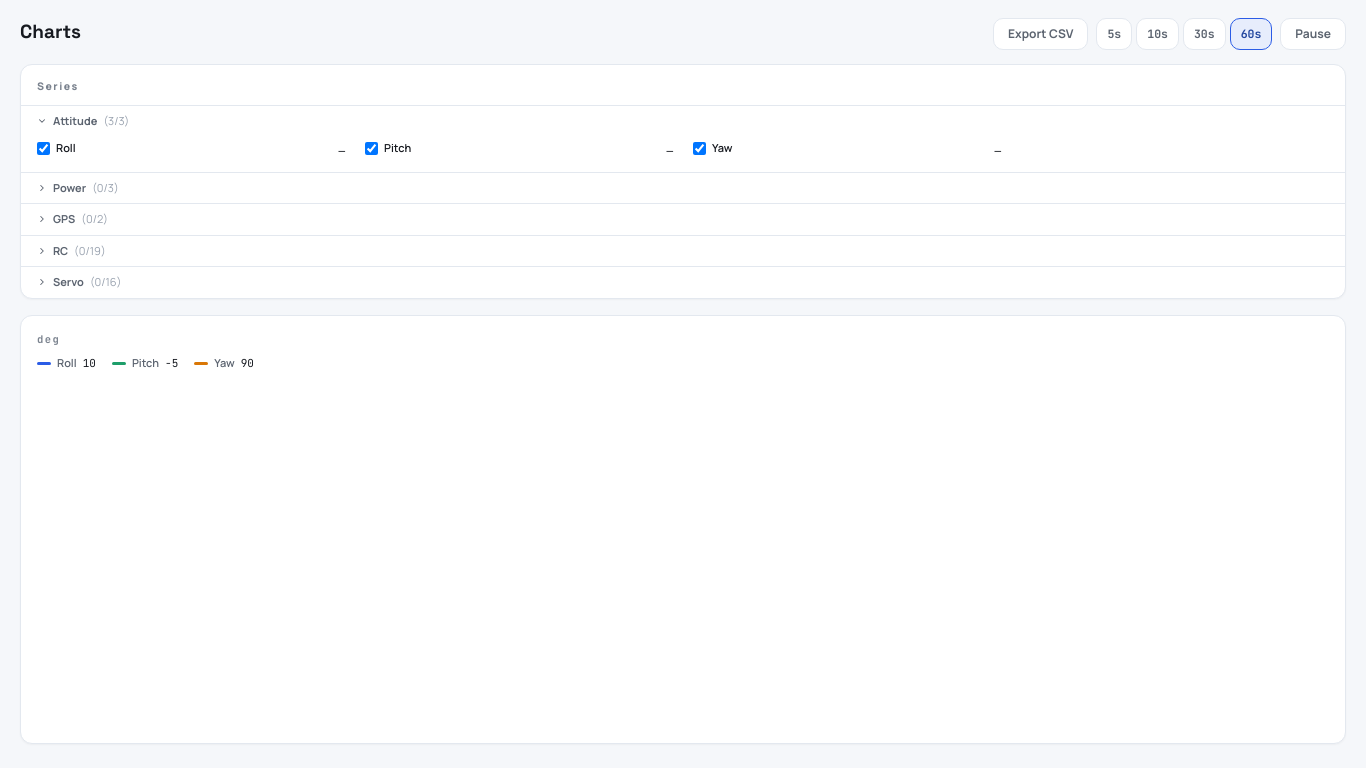
Test: ChartsPage › lists all 43 Series as checkboxes across the five Block groups once expanded; fix_type is absent
Click the button "Power (0/3)" at (70, 187), box [21,172,1345,203]
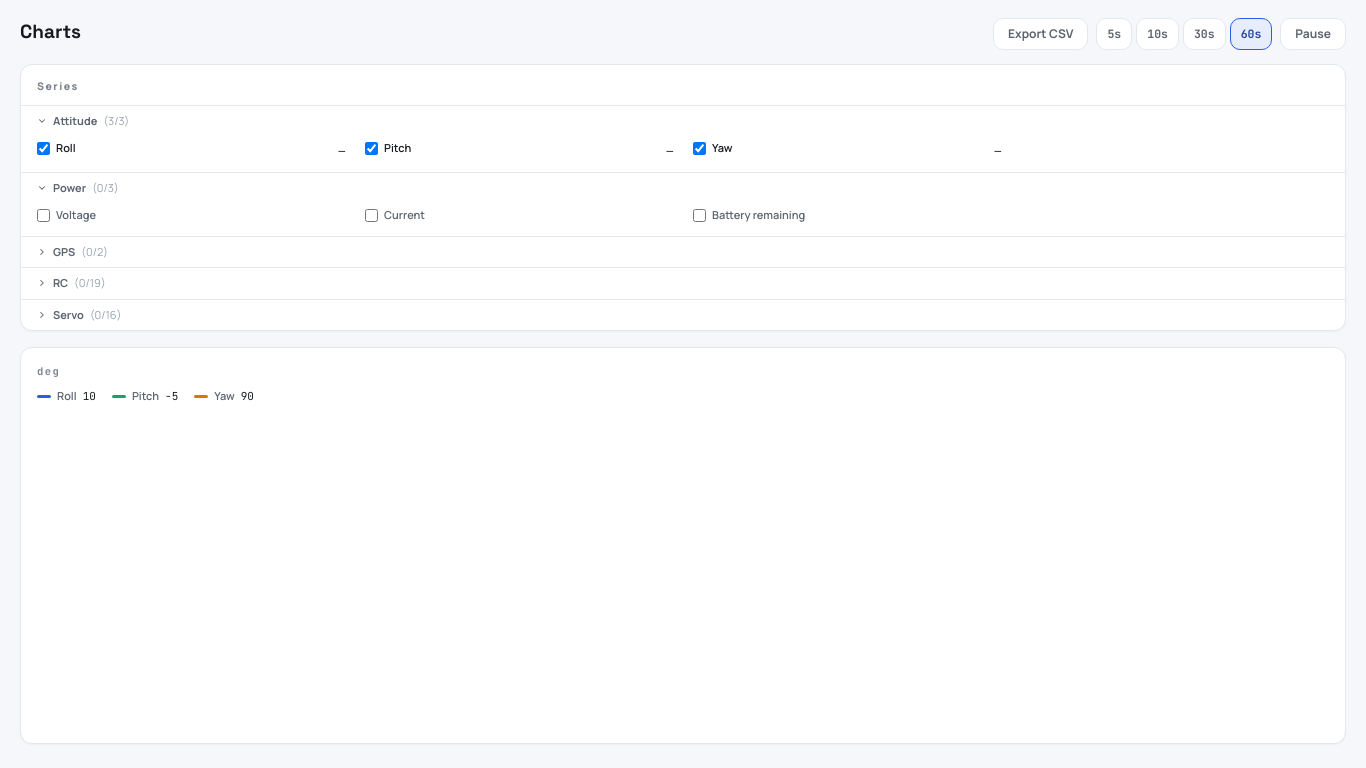
Click the button "GPS (0/2)" at (42, 252), box [21,236,1345,267]
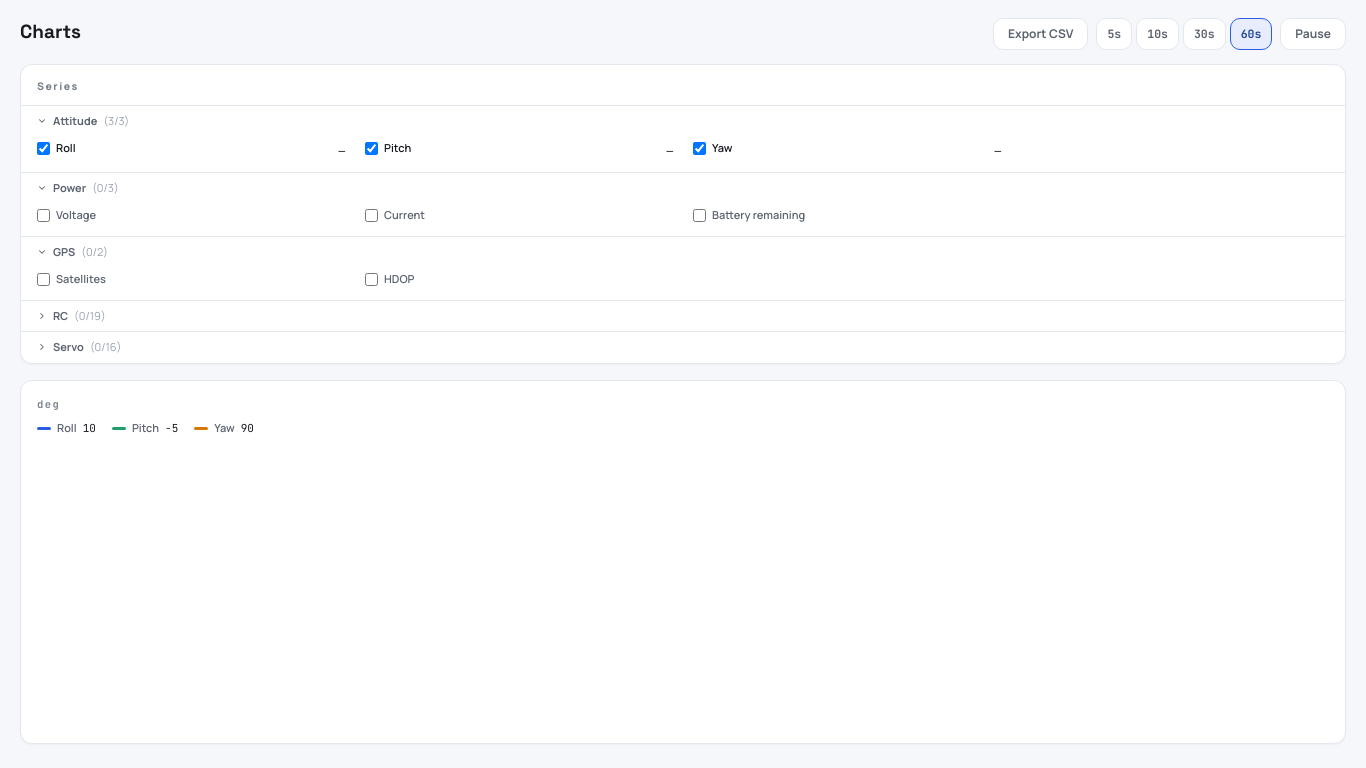
Click the button "RC (0/19)" at (42, 316), box [21,300,1345,331]
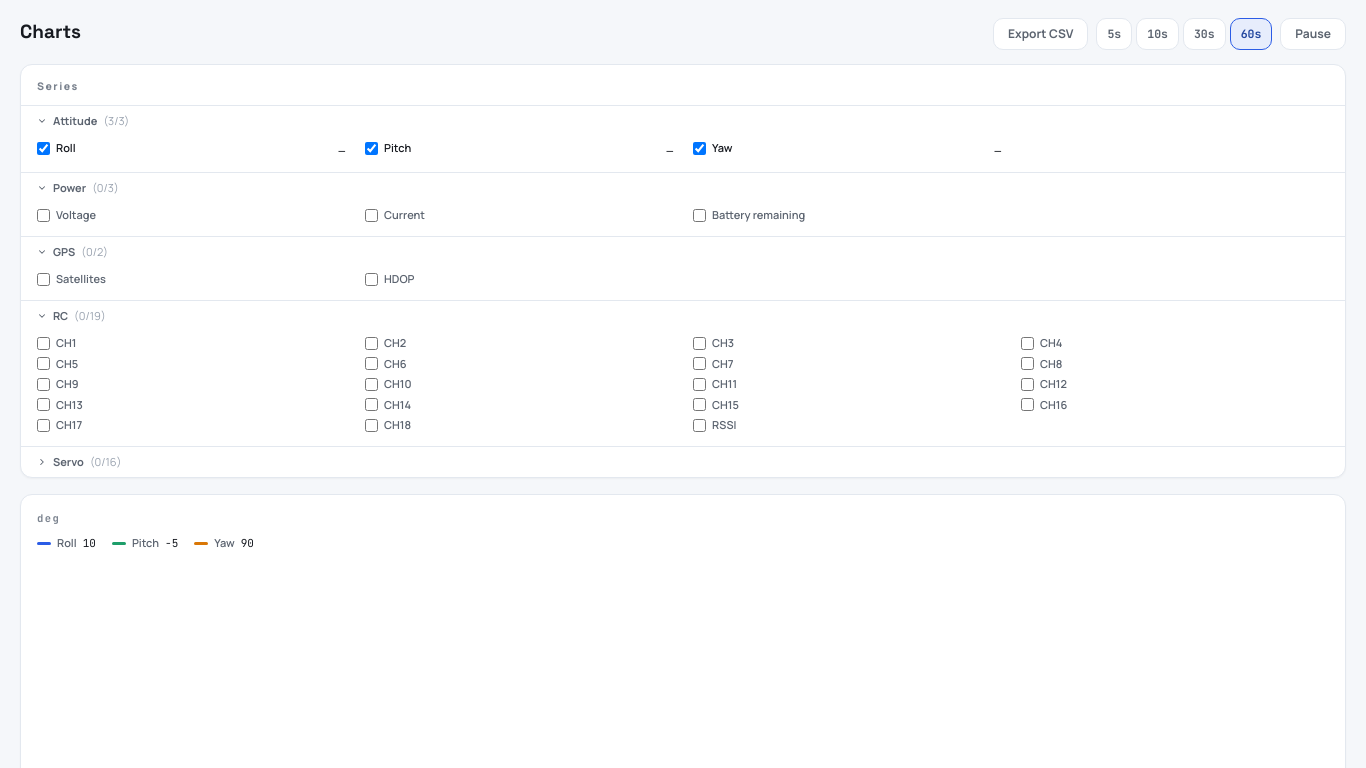
Click the button "Servo (0/16)" at (68, 461), box [21,446,1345,477]
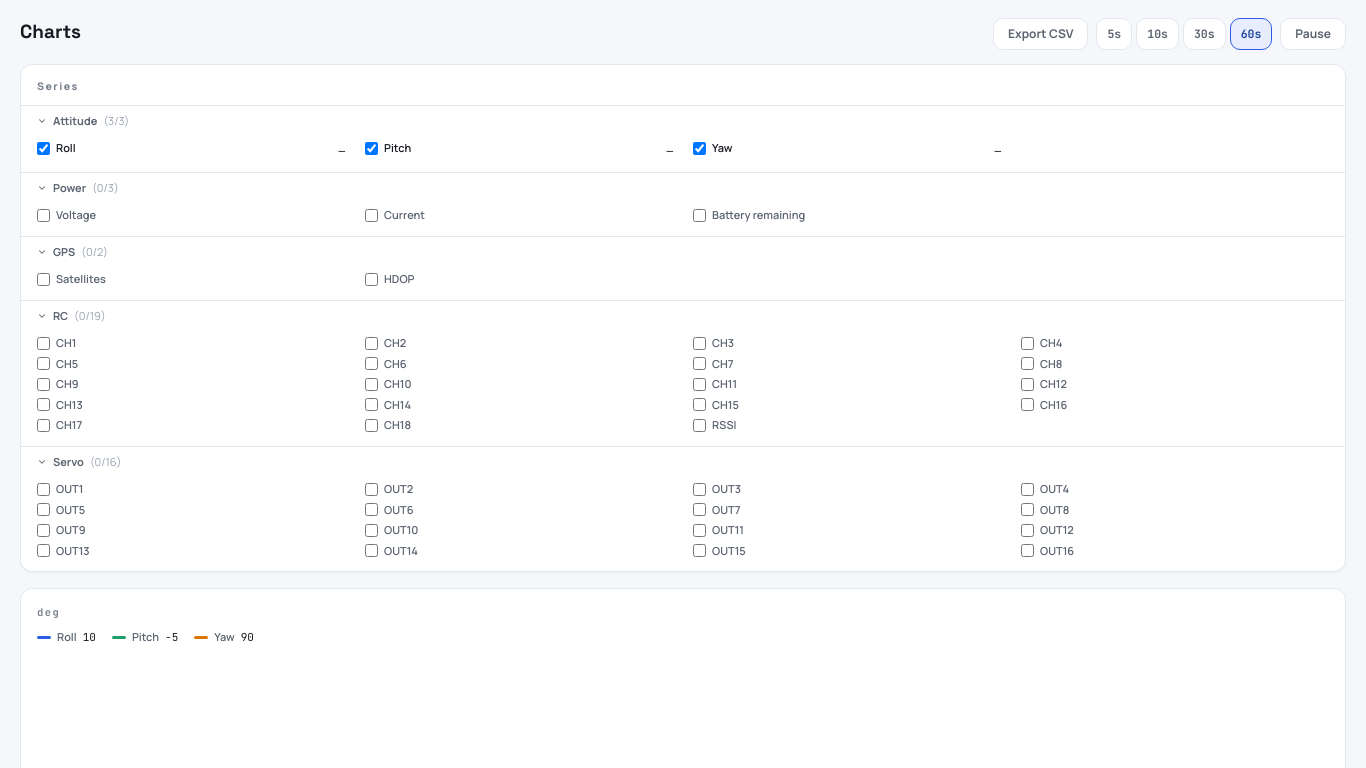
Expected: the checkbox labelled "CH18" is shown, [365,419,378,432]
Expected: the checkbox labelled "OUT16" is shown, [1021,544,1034,557]
